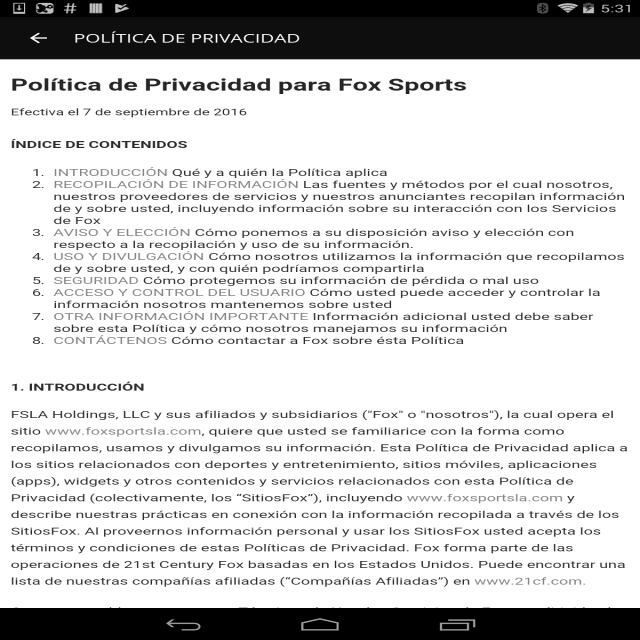Button: (227, 390, 413, 416)
ImageButton: (9, 17, 68, 59)
ImageView: (240, 244, 400, 344)
ProgressBar: (294, 339, 346, 371)
TextView: (69, 17, 632, 59), (32, 344, 608, 358), (32, 358, 608, 370)
